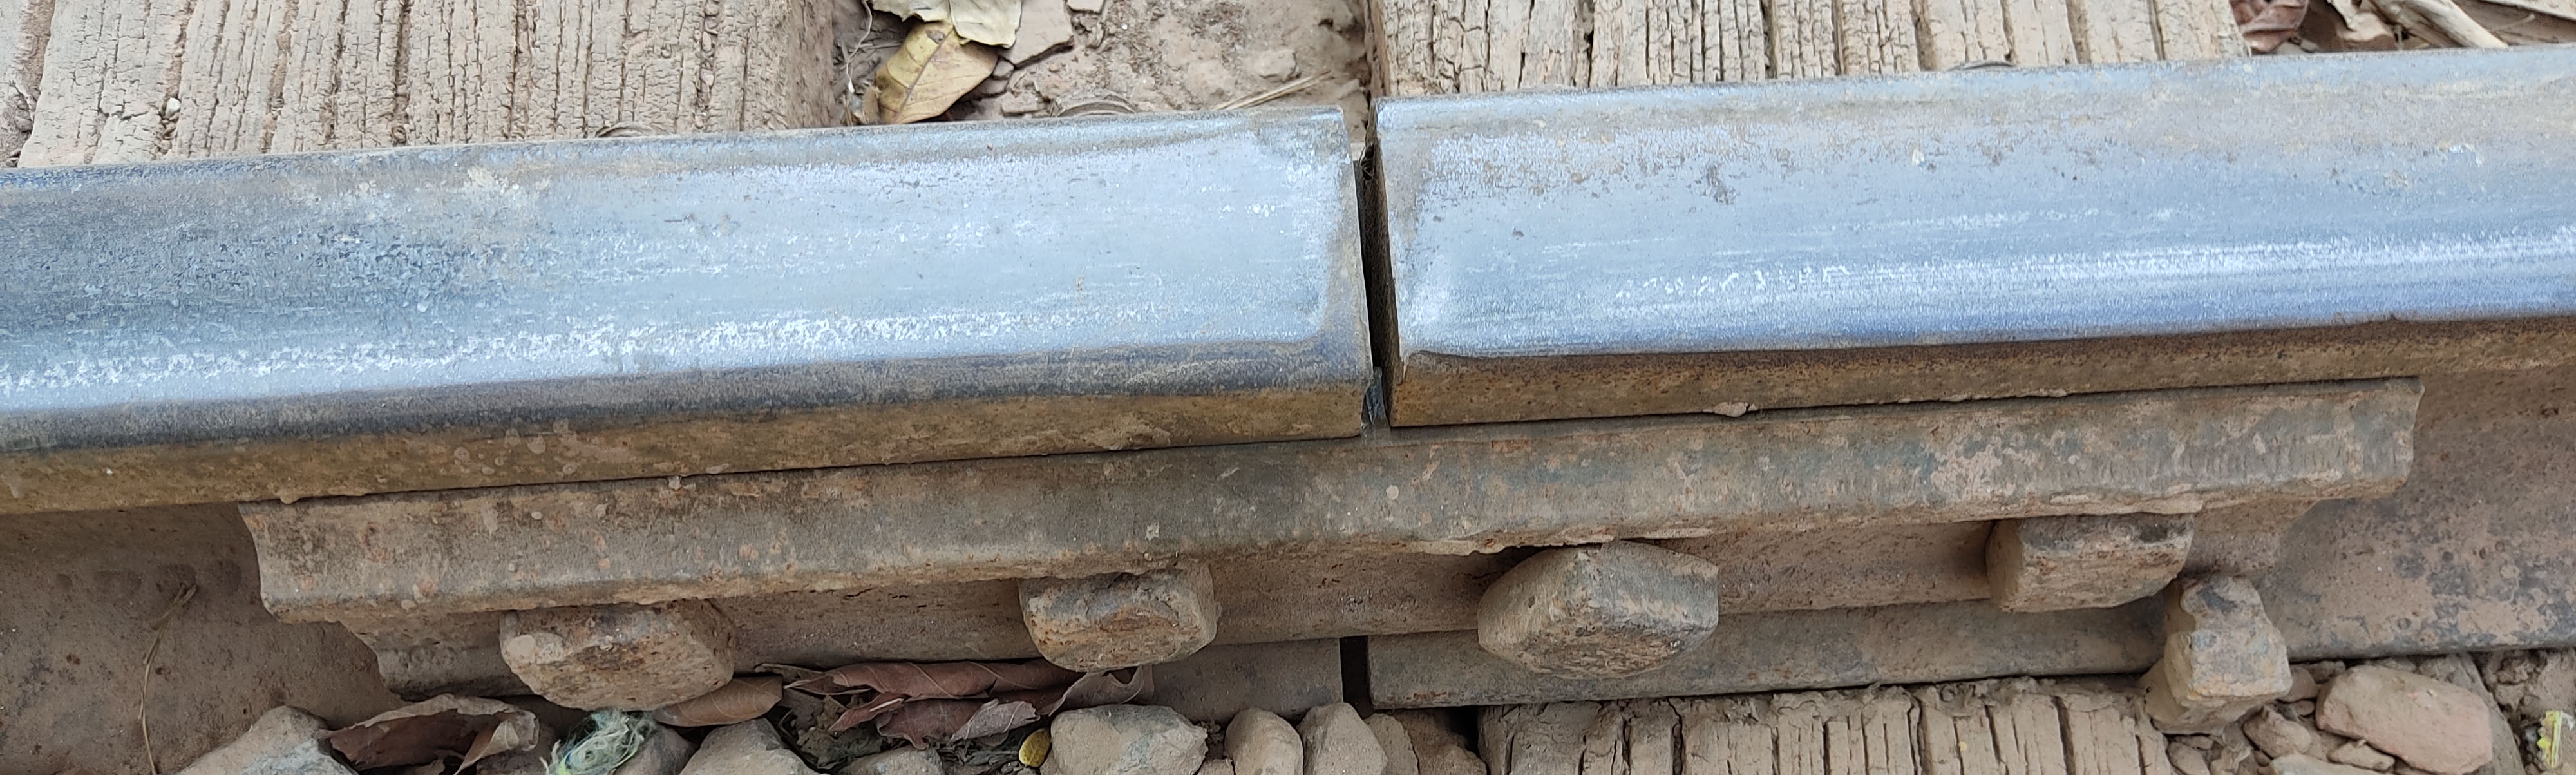error2: (1313, 62, 1474, 455)
